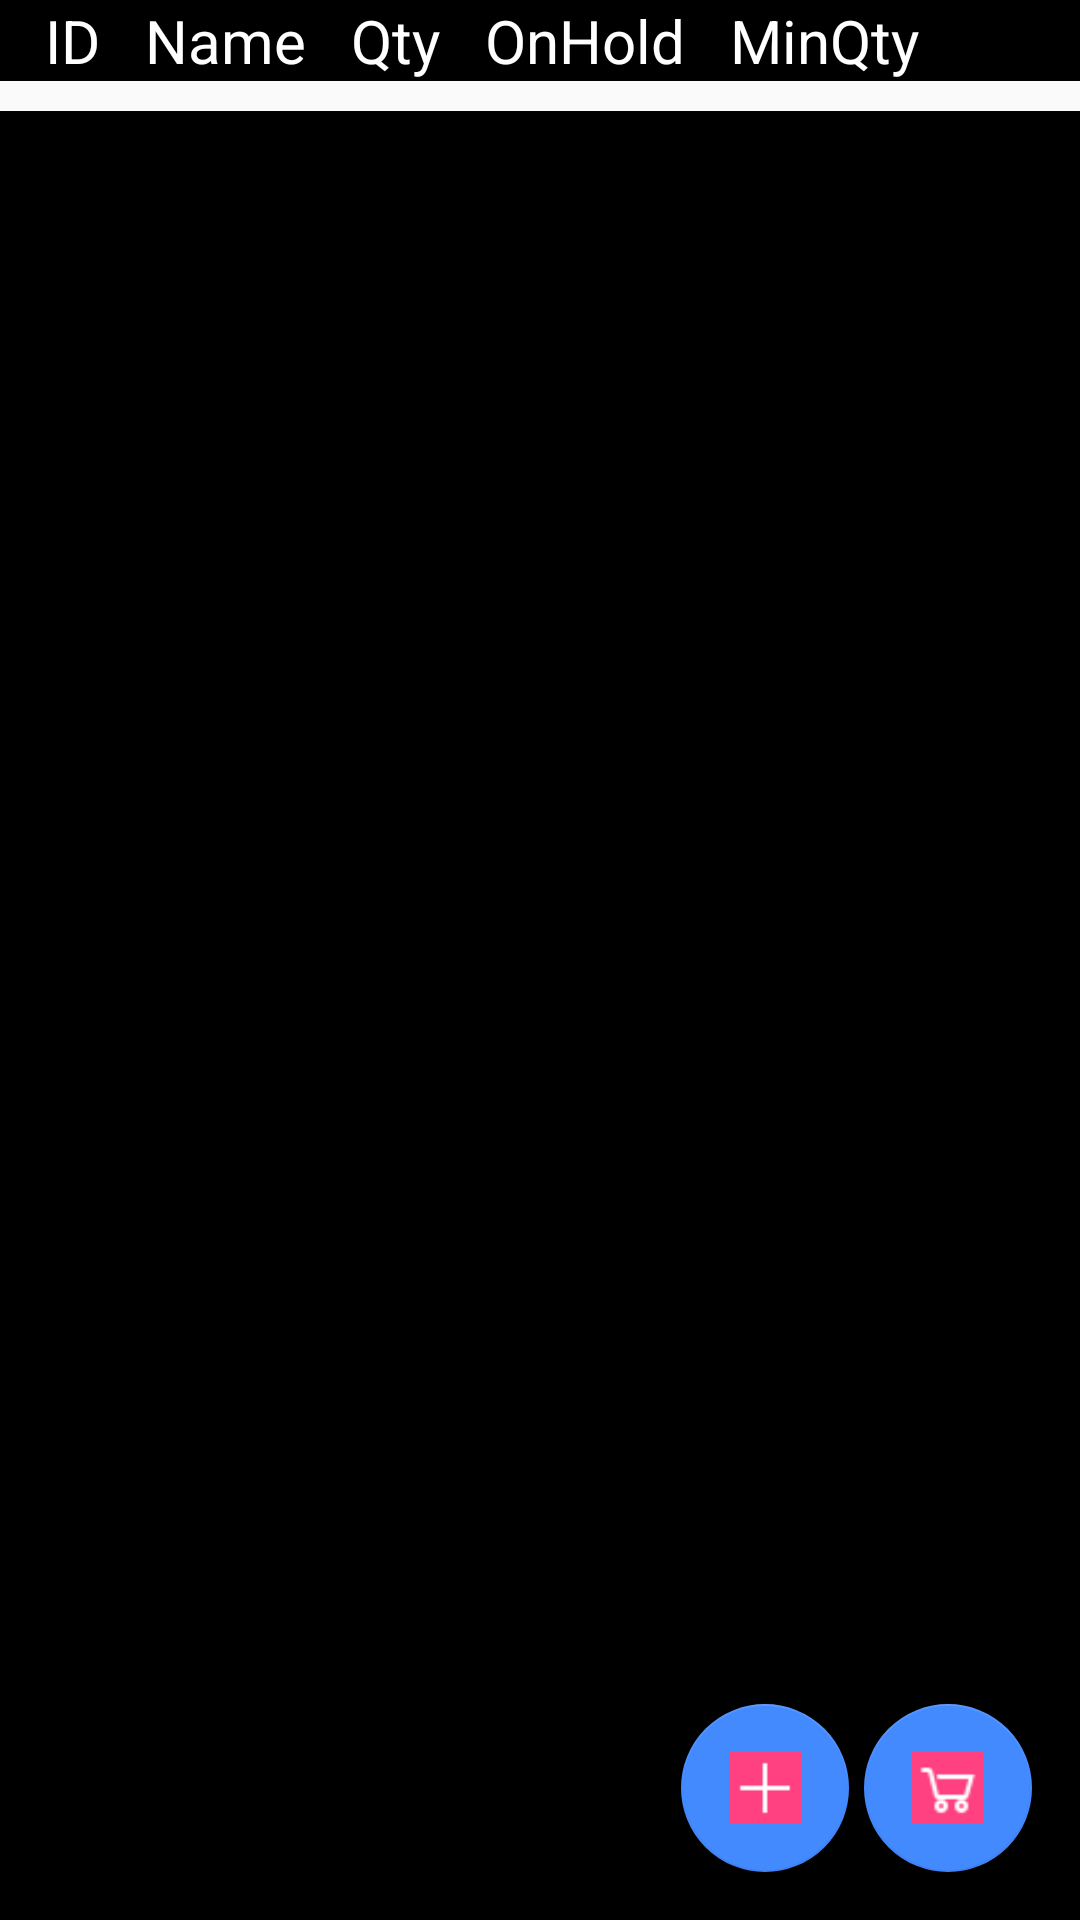

Icons on this 1080*1920 Android screen, each with its box as bbox(x1, y1, x2, y2):
plus: bbox(681, 1704, 849, 1872)
shopping cart: bbox(864, 1704, 1032, 1872)
